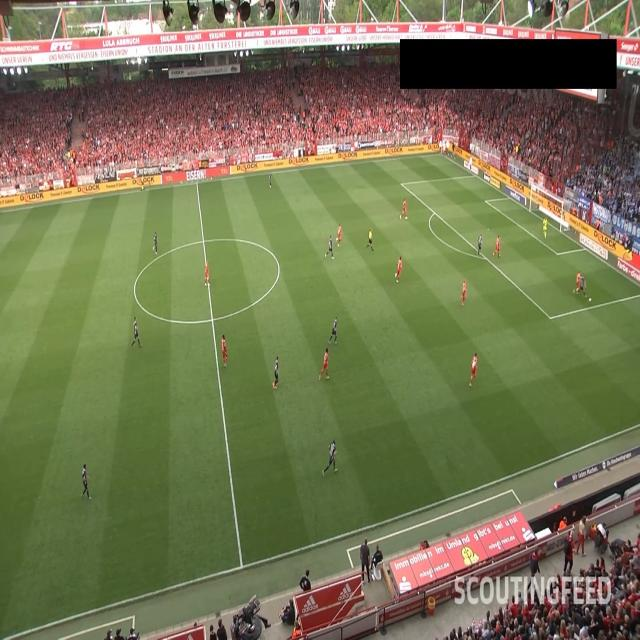ball: (588, 296, 592, 302)
